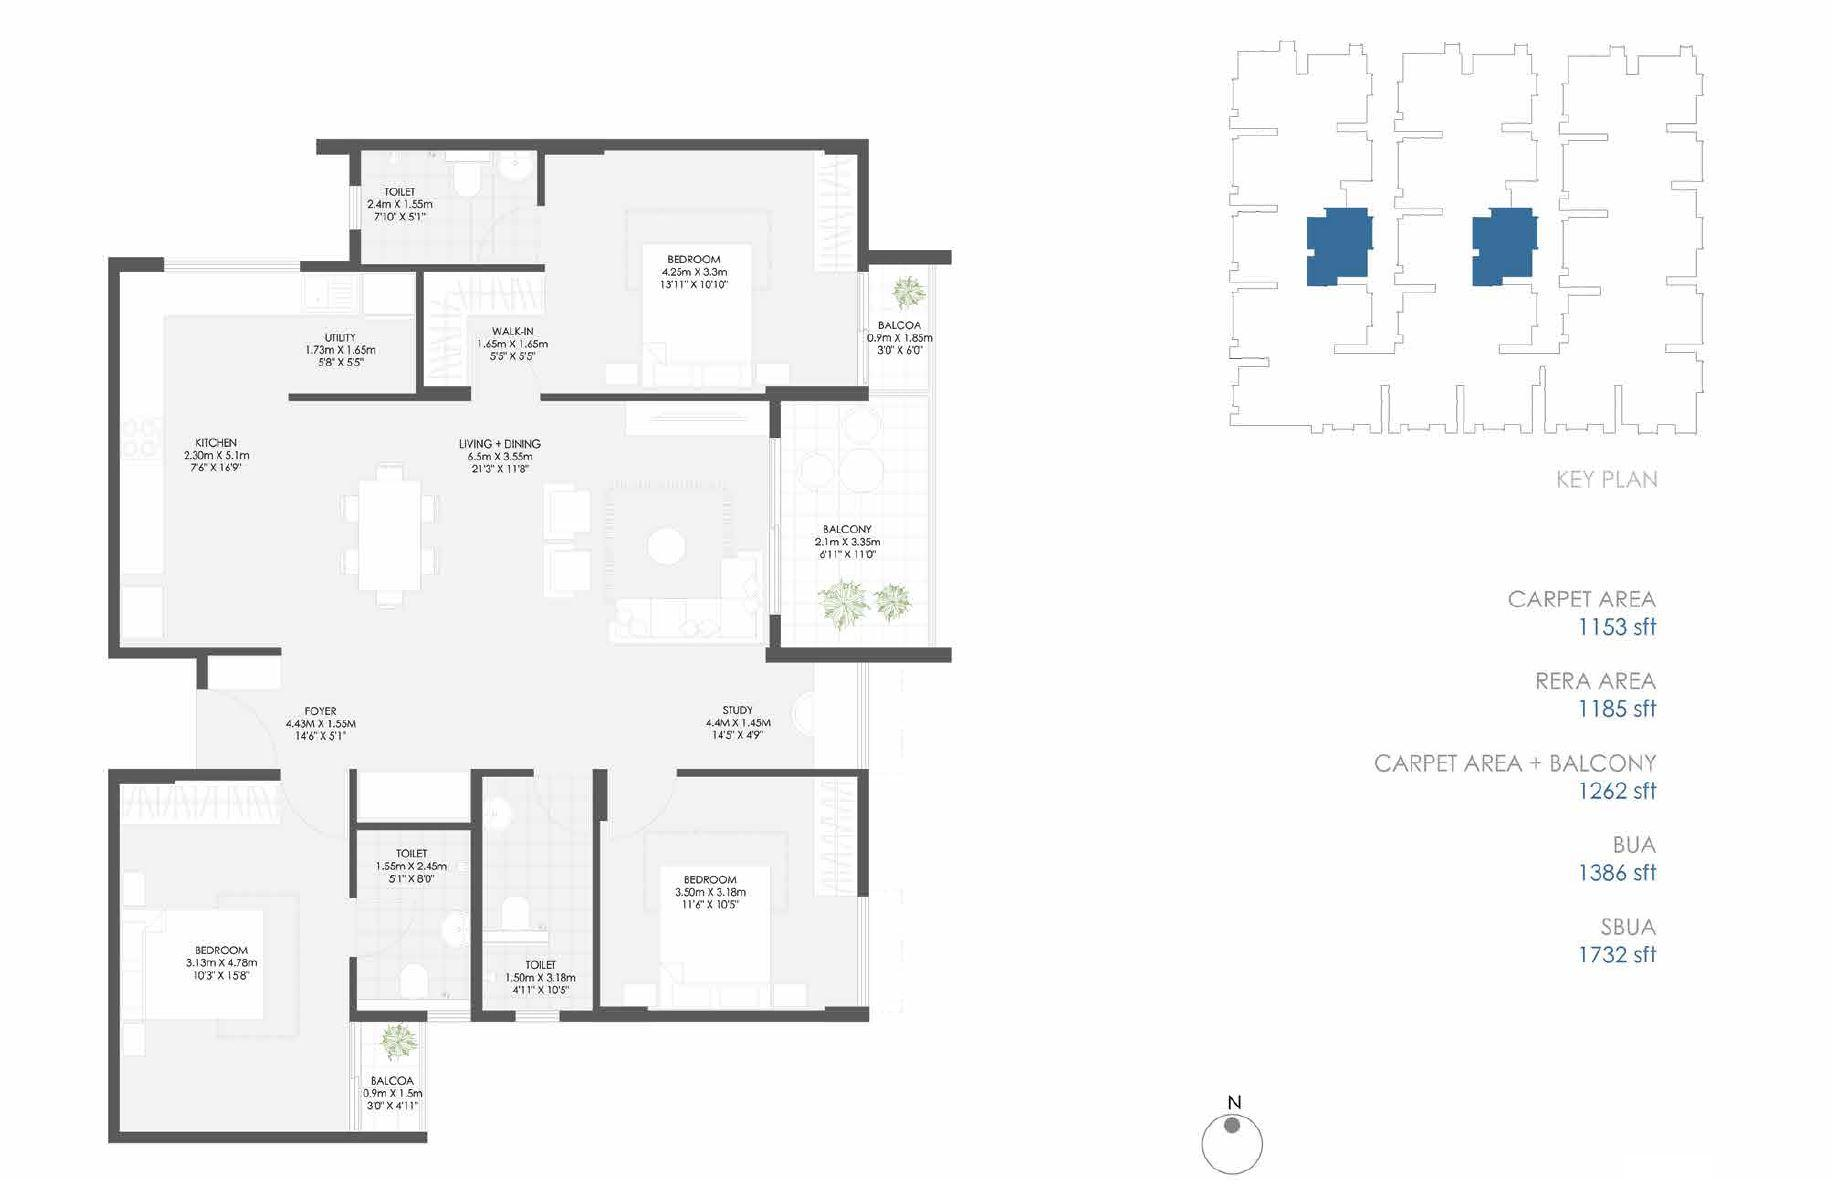Balcony: (782, 394, 932, 645)
Bed: (662, 864, 772, 1012), (642, 242, 747, 390), (124, 908, 261, 1020)
Bedroom: (120, 778, 348, 1135), (543, 155, 857, 390), (600, 770, 864, 1019)
Dining Room: (309, 402, 512, 644)
Dining table: (322, 453, 449, 623)
Foyer: (193, 658, 637, 766)
Kitchen: (120, 286, 305, 642)
Living Room: (517, 400, 778, 644)
Sofa: (618, 597, 759, 645), (724, 546, 763, 642), (540, 548, 592, 602), (540, 485, 588, 539)
Wardrobe: (120, 781, 281, 826), (810, 155, 858, 273), (423, 273, 545, 316), (817, 779, 858, 898), (424, 275, 465, 390), (210, 657, 278, 688)
balcoa: (864, 266, 933, 388), (353, 1023, 423, 1130)
commode: (502, 898, 533, 930), (454, 160, 479, 196), (400, 965, 426, 997)
door: (189, 688, 285, 767), (463, 322, 553, 406), (461, 204, 572, 269), (599, 770, 677, 848), (278, 770, 352, 844), (348, 892, 423, 959), (535, 774, 591, 843), (764, 439, 786, 618), (852, 271, 877, 386)
fridge: (120, 585, 165, 644)
kitchen-slab: (124, 278, 163, 574), (124, 278, 286, 314)
sink: (287, 278, 355, 312), (500, 153, 532, 184), (486, 801, 512, 837), (441, 912, 463, 945)
study: (626, 658, 862, 773)
toilet: (479, 781, 594, 1012), (349, 830, 477, 1012), (353, 149, 543, 265)
tv: (643, 404, 760, 435)
utility: (271, 267, 415, 390)
walkin: (424, 275, 543, 399)
washing-machine: (360, 271, 415, 321)
